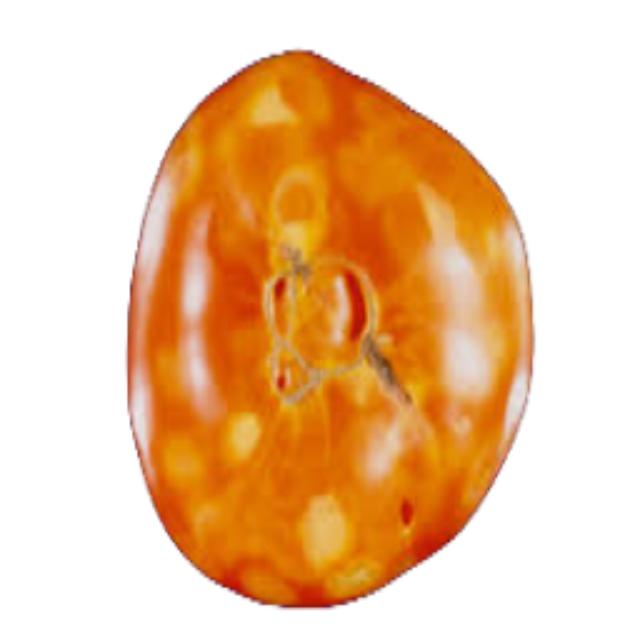defect: (113, 43, 542, 610)
